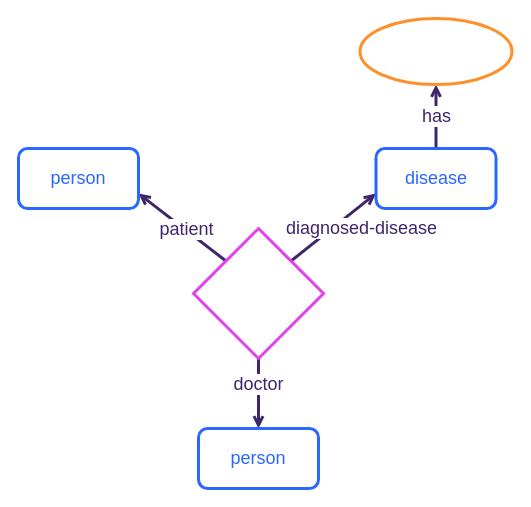
Image size: 531x507. Some labels were removed from this diagram. The centre of each missing label's shape, as x and y in pixels:
diagnosis: the point at 258,293
name "Diabetes Type II": the point at 435,51
